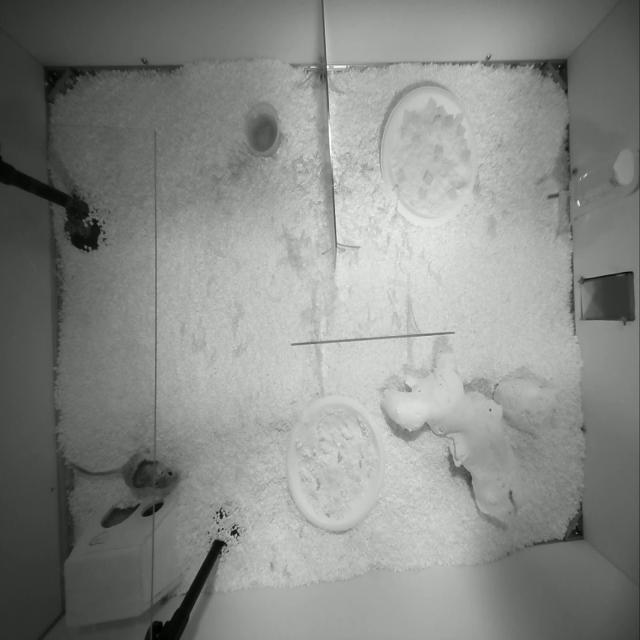adult_front: (70, 450, 176, 492)
